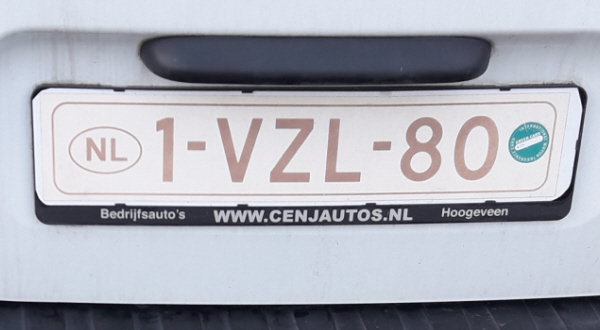license_plate: (39, 93, 568, 206)
